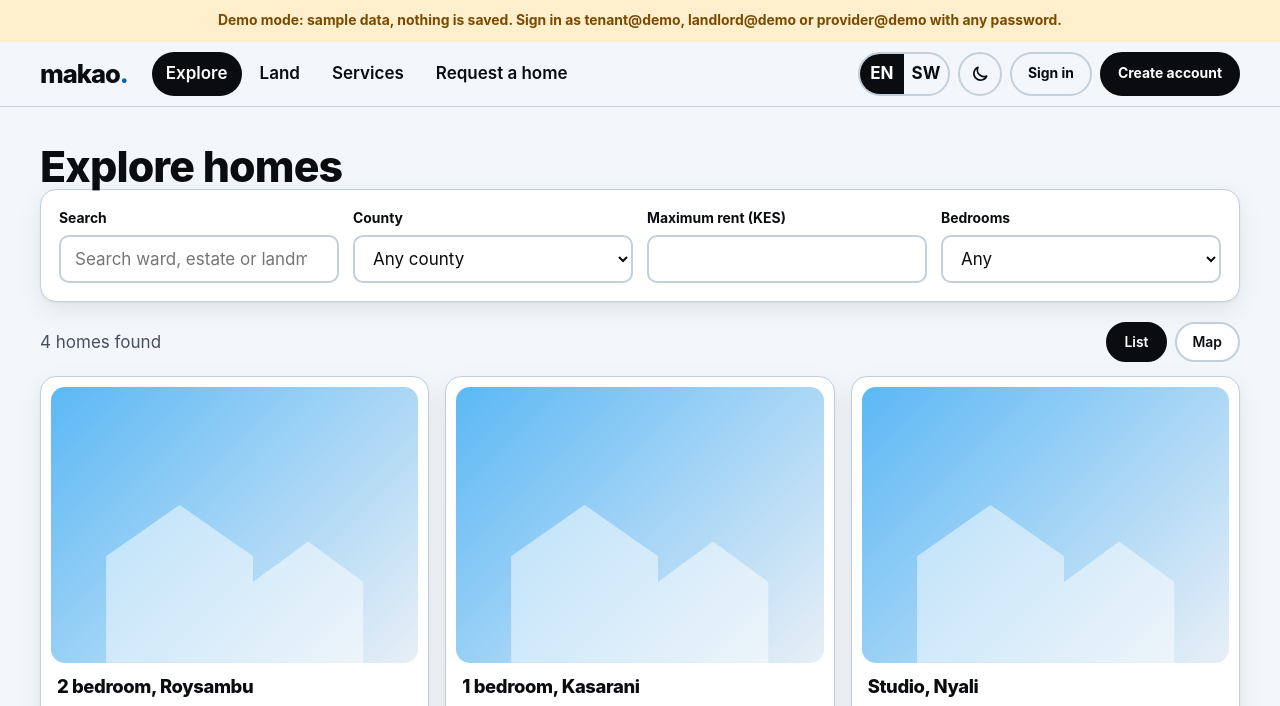
Test: explore filters › filters by maximum rent and explains when nothing matches
Check: the text "4 homes found" is shown, box [40, 329, 161, 356]
Type "10000" into the number field labelled "Maximum rent (KES)" at (787, 260), box [647, 236, 927, 284]
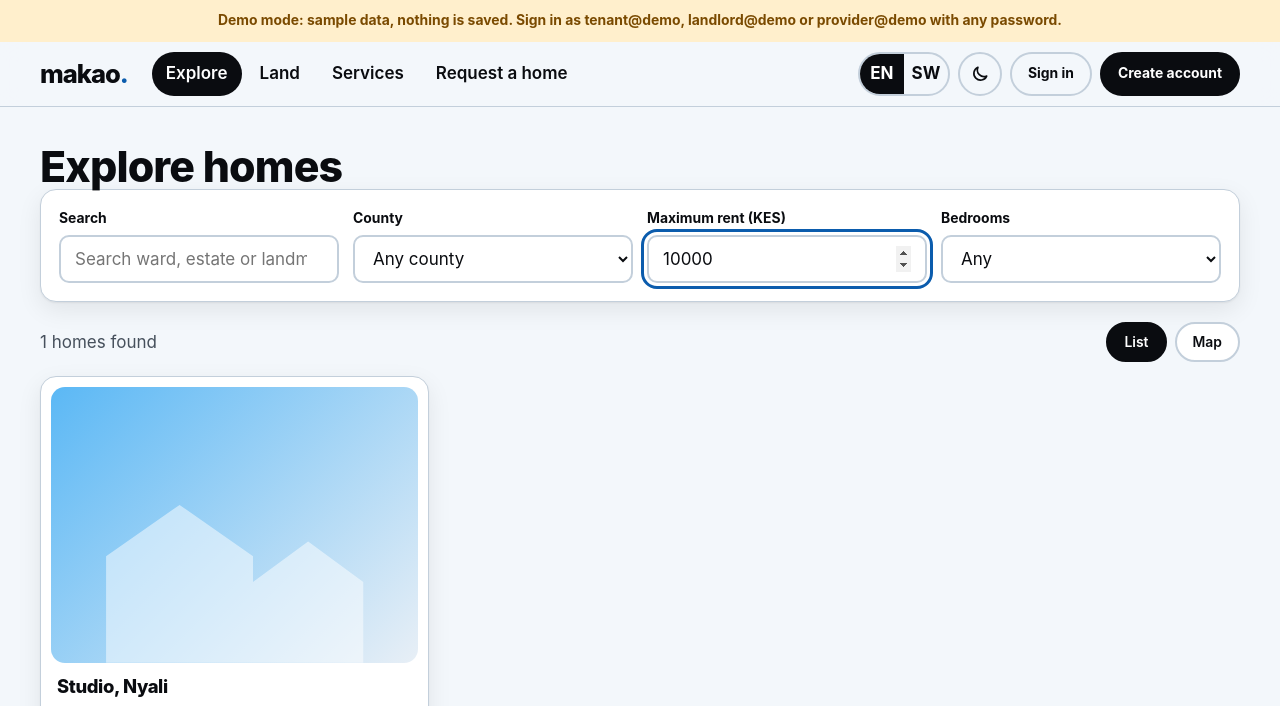
Check: the text "1 homes found" is shown, box [40, 329, 157, 356]
Replace the text in the number field labelled "Maximum rent (KES)" with "100" at (787, 260), box [647, 236, 927, 284]
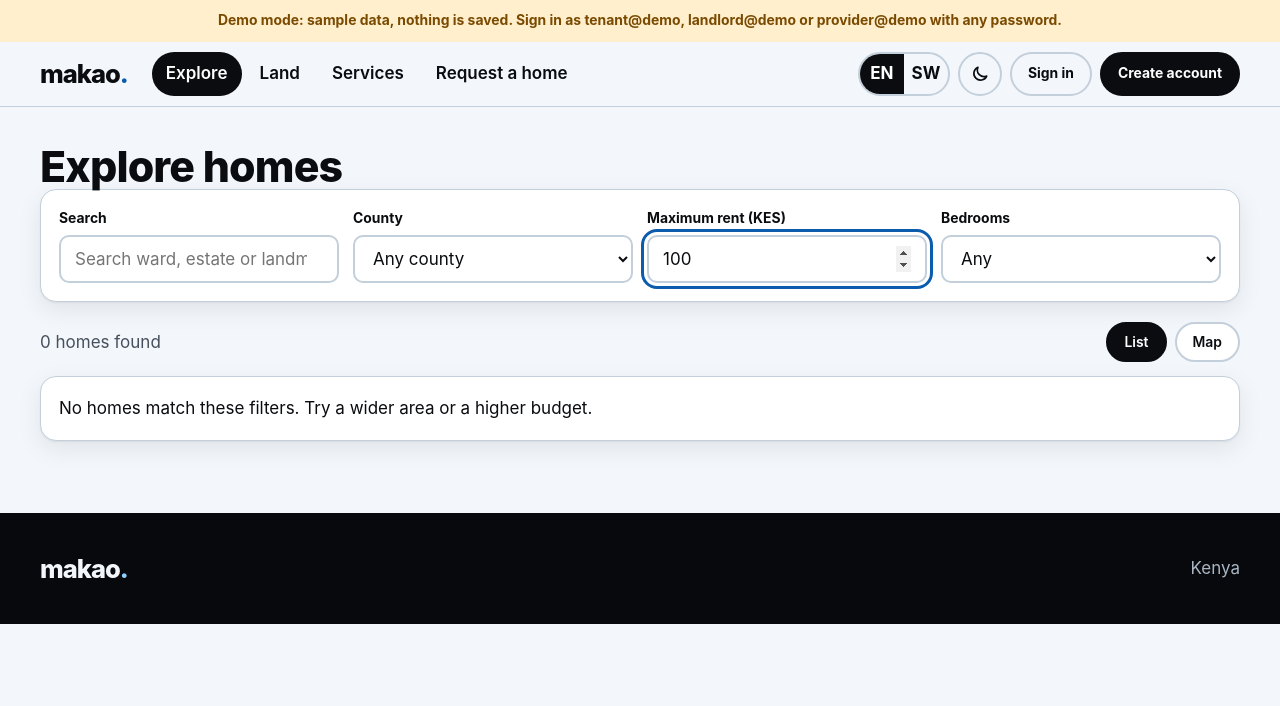
Check: the text "No homes match these filters" is shown, box [59, 398, 592, 418]
